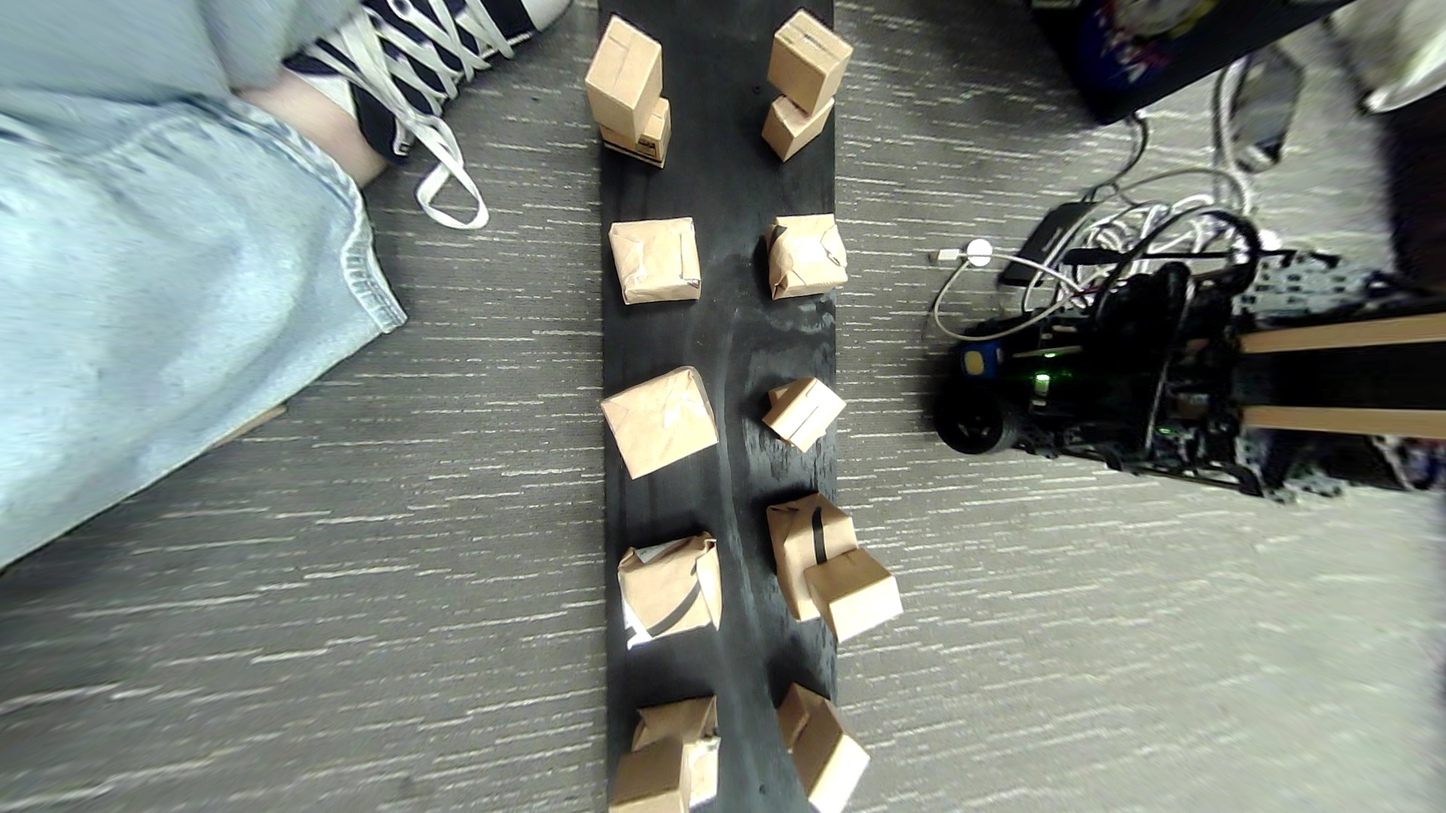package: (753, 501, 911, 632), (588, 25, 670, 164), (756, 16, 831, 159), (619, 708, 722, 811), (604, 385, 720, 474), (779, 687, 862, 802), (621, 548, 721, 630), (606, 227, 702, 300), (767, 218, 848, 298), (758, 382, 836, 451)
